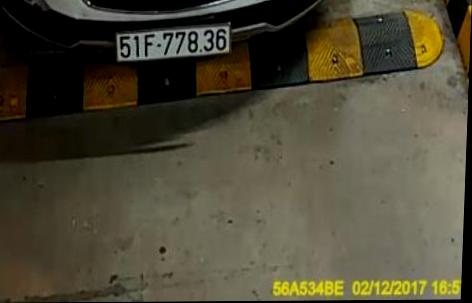License_Plate: (112, 25, 233, 61)
